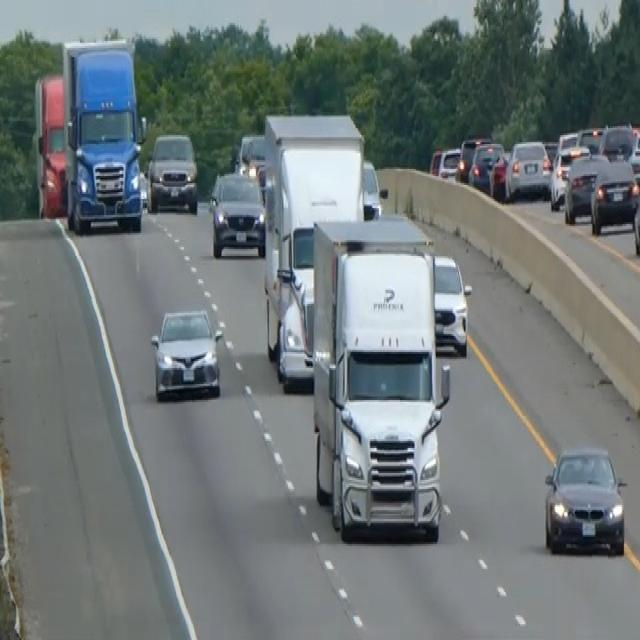car: (543, 442, 627, 556), (149, 306, 222, 402), (209, 169, 265, 258), (146, 130, 199, 213), (431, 250, 471, 356), (589, 154, 639, 234), (563, 151, 608, 222), (505, 137, 551, 201), (549, 142, 590, 210), (467, 138, 503, 194), (456, 133, 489, 183), (362, 156, 386, 218), (597, 121, 635, 160), (488, 148, 511, 199), (574, 124, 604, 154), (438, 146, 461, 180), (632, 178, 639, 258)
lorry: (309, 213, 452, 544), (61, 36, 146, 234)
